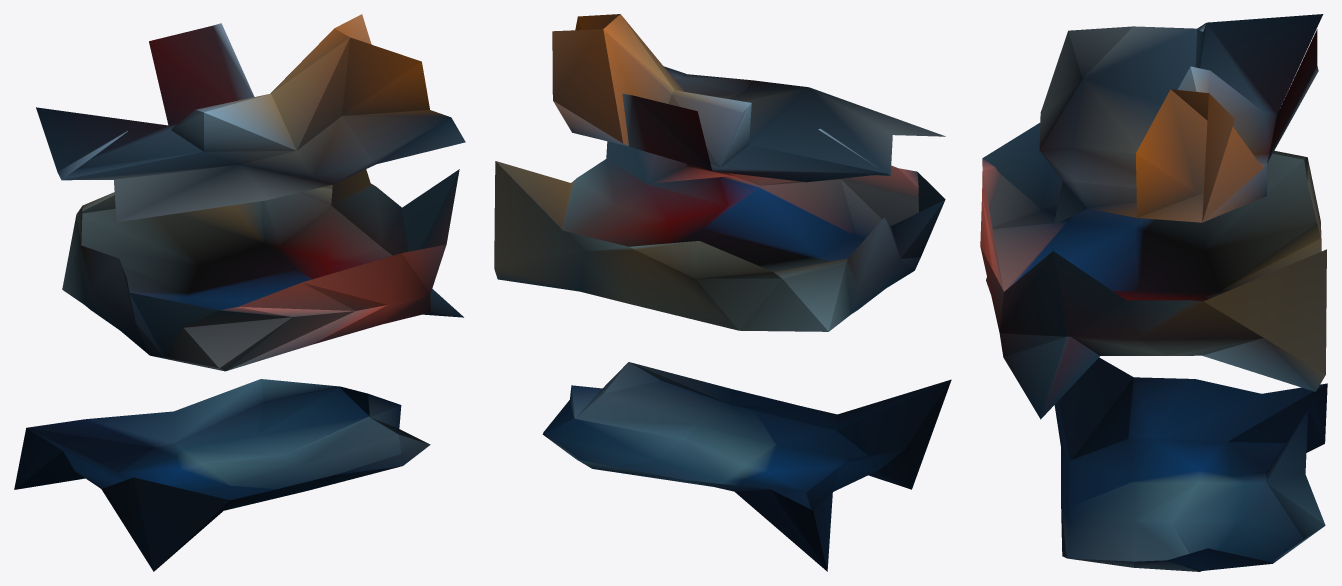
The picture shows the model from 3 angles, left to right: view 1: azimuth 30°, elevation 25°; view 2: azimuth 150°, elevation 25°; view 3: azimuth 270°, elevation 25°; orthographic projection. The views are drawn at different scales.
Bounding box in the file's own units: 0.7303 × 0.9 × 0.5477.
